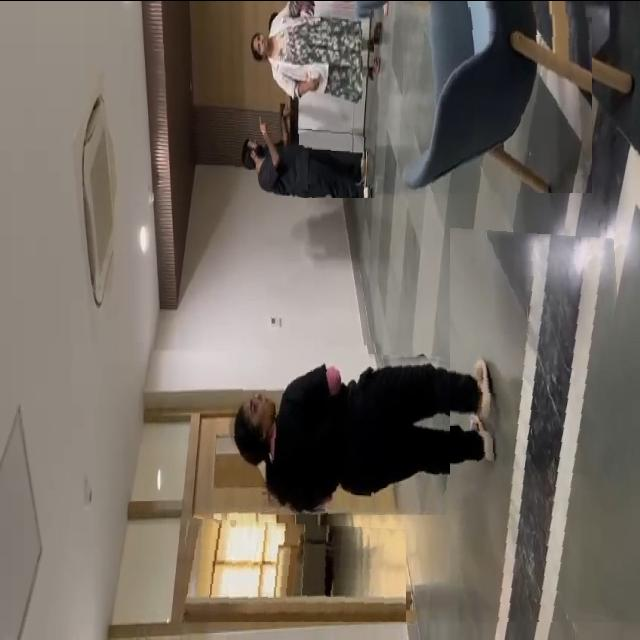door: (178, 517, 406, 621)
floor: (450, 225, 640, 621)
furniture: (403, 0, 592, 192)
moving_object: (226, 347, 512, 514), (225, 0, 375, 197)
